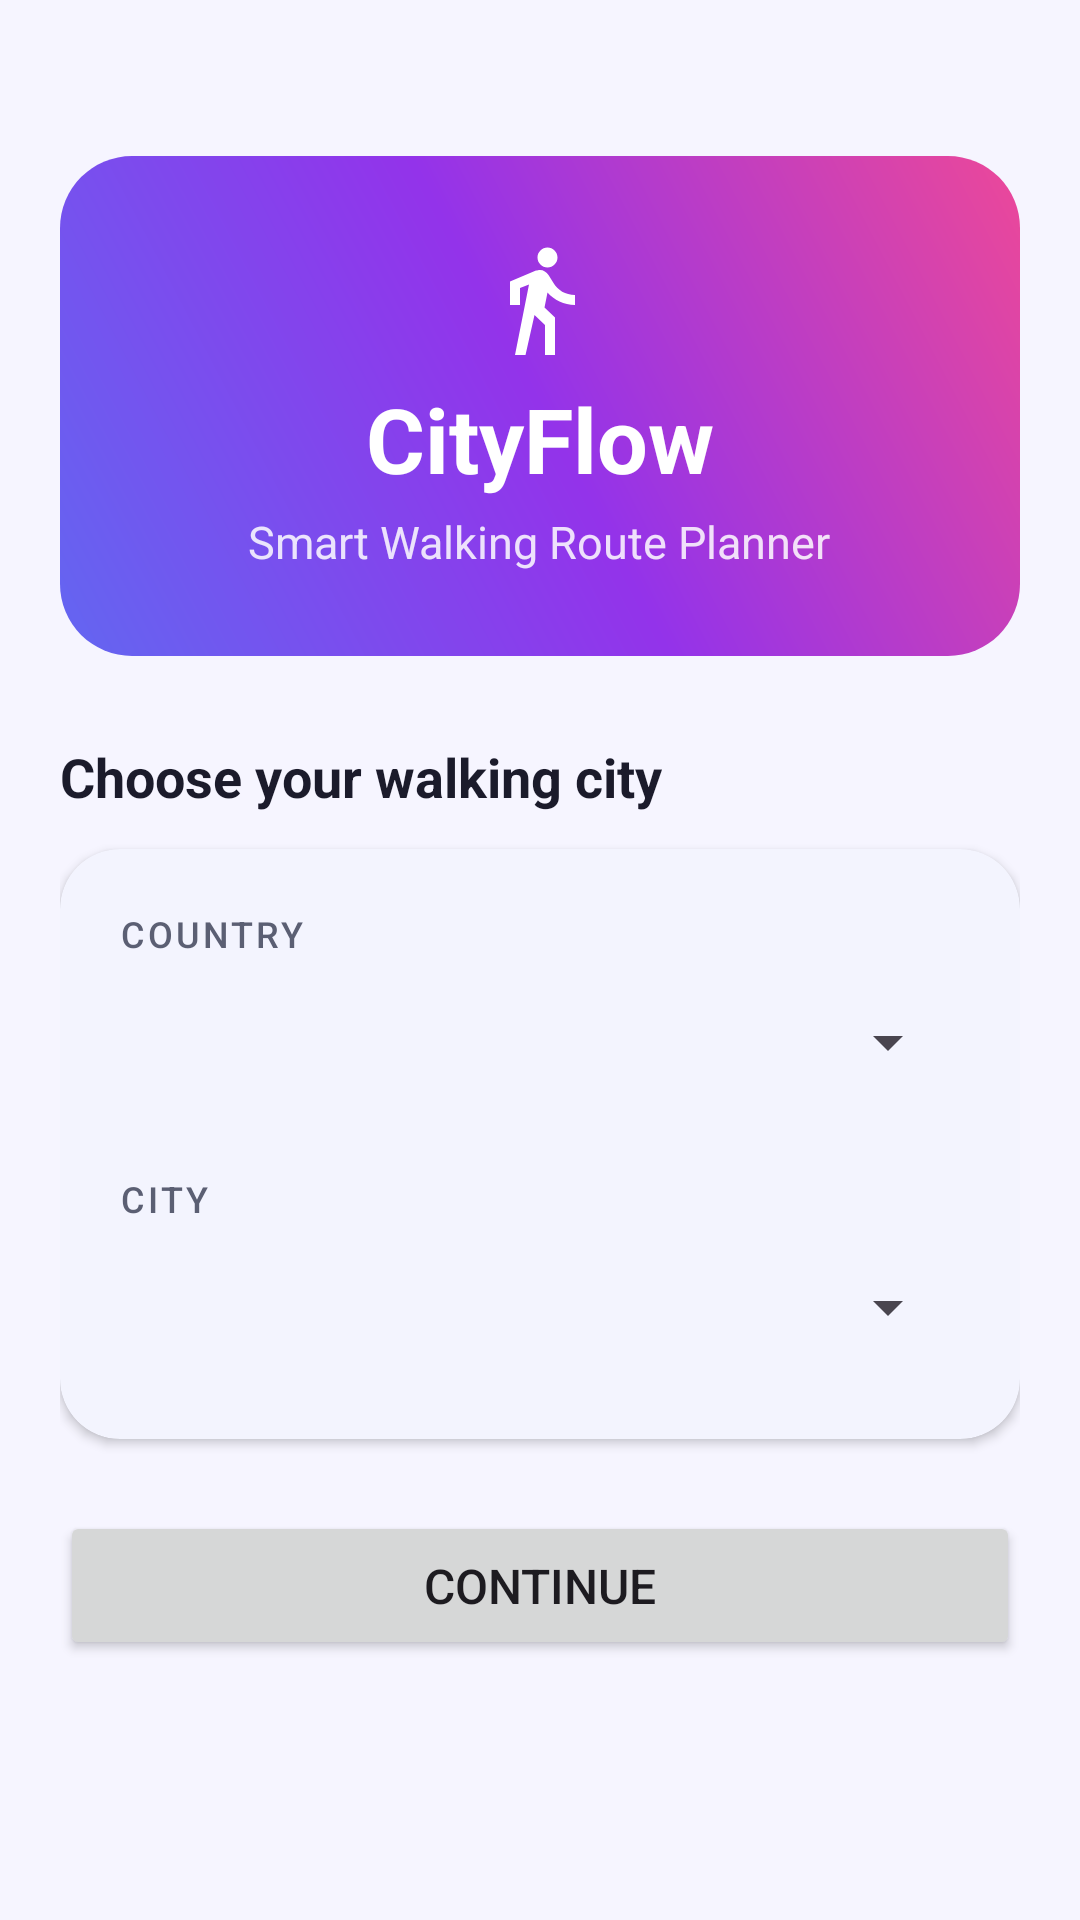

Where to tap for icons on this 1080 × 1920 app screen, as (x,y):
walk: (552,300)
